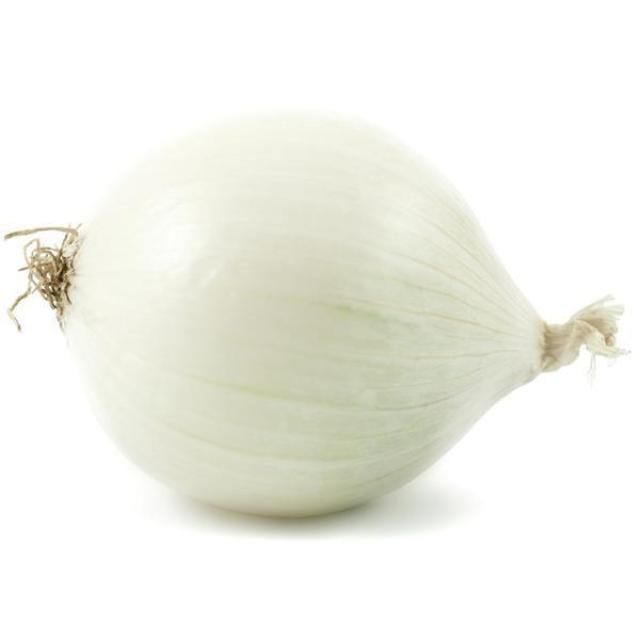Onion: (6, 112, 630, 522)
